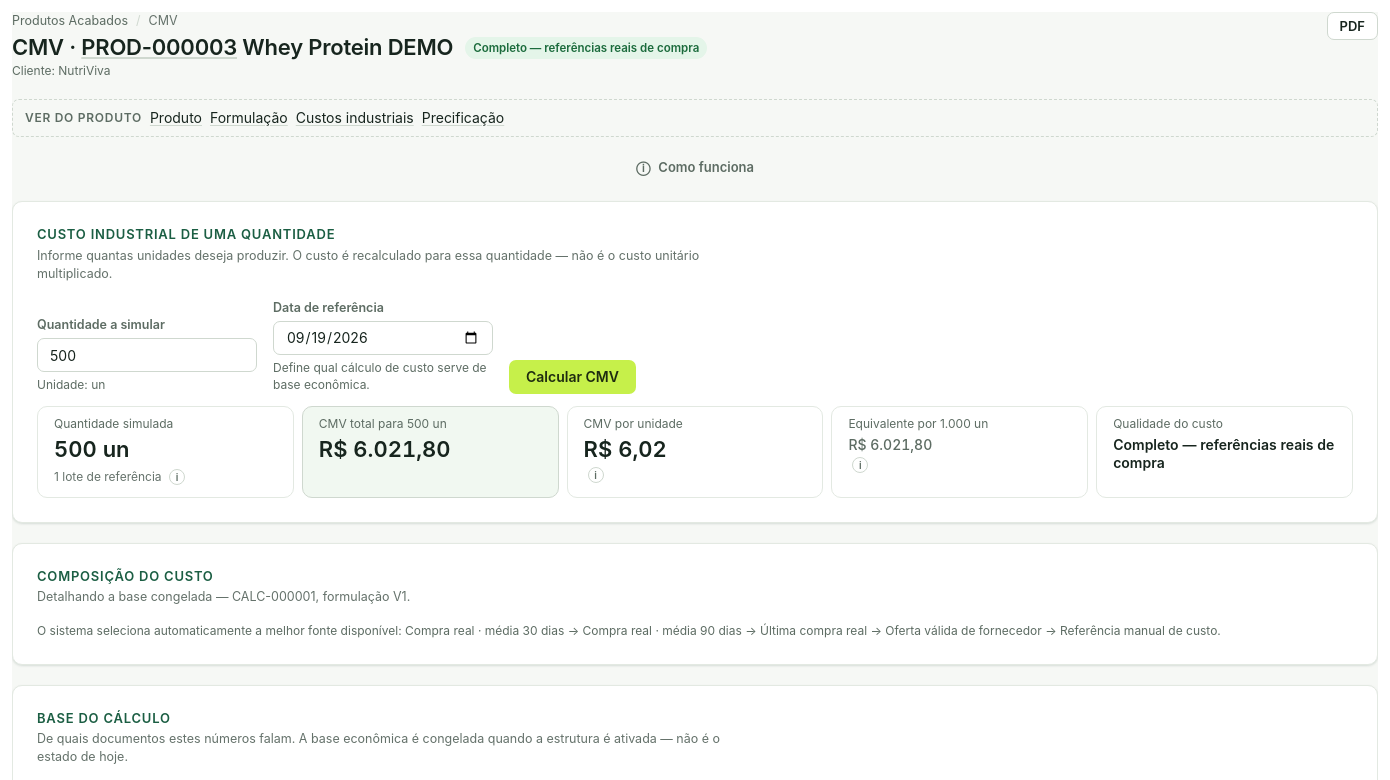
Test case: CalcHint do CMV por unidade › valor que não fecha com a conta acende o alerta em vez de convencer
Expected: the text "R$ 6,02" is shown, [584,436,667,462]
Click the button named "Ajuda sobre CMV por unidade" at coordinates (596, 475), box [588,467,604,483]
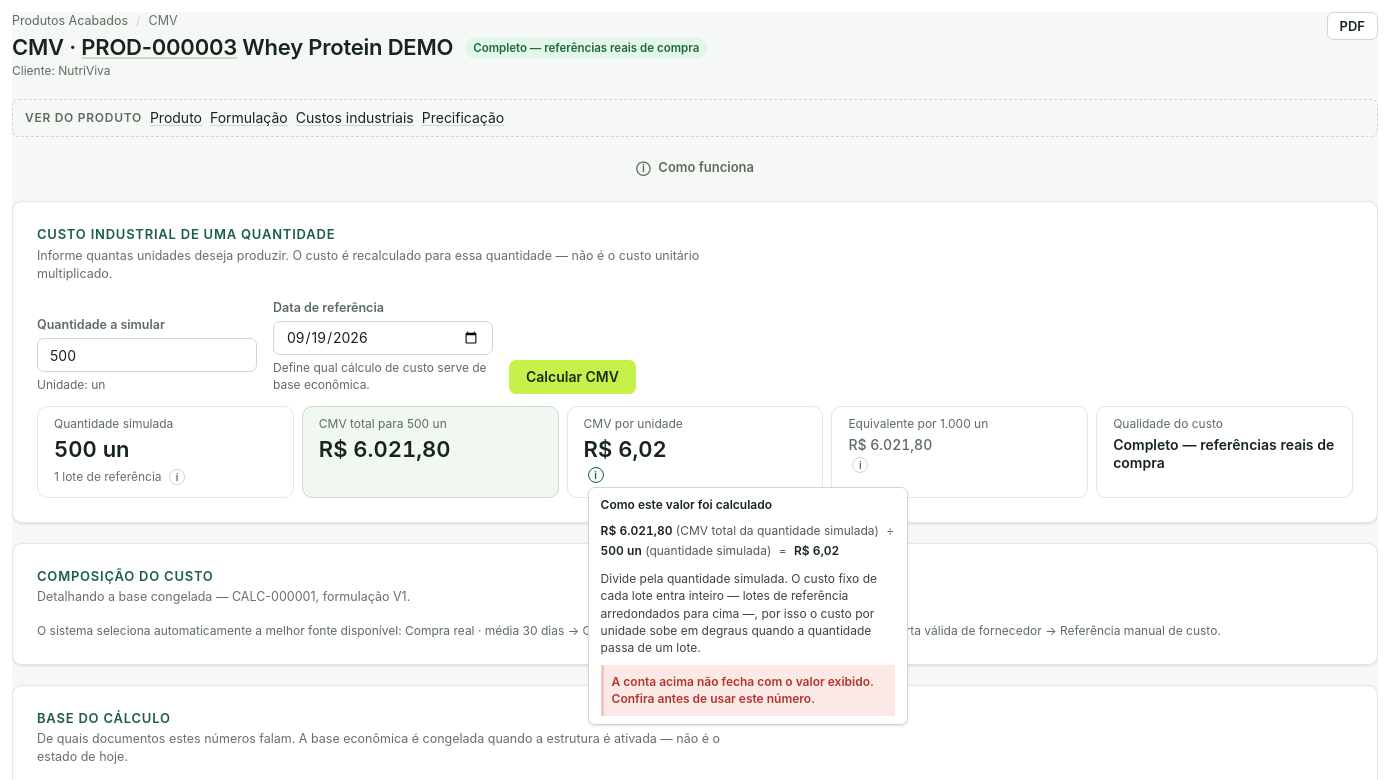
Expected: the message shows "A conta acima não fecha", [612,674,874,706]
